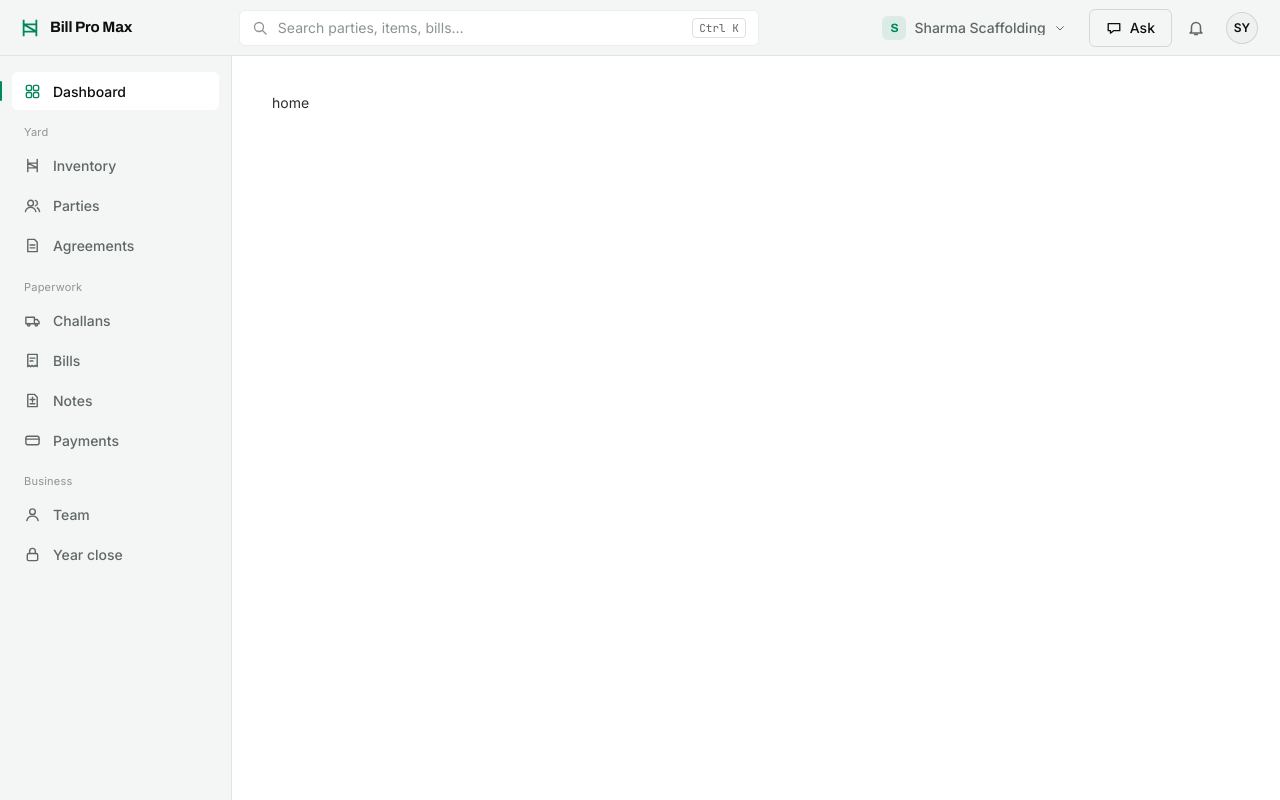
it: Layout › shows only Settings in the business menu with a single business
Click the button "S Sharma Scaffolding" at [974, 28], box x1=866 y1=8 x2=1083 y2=46
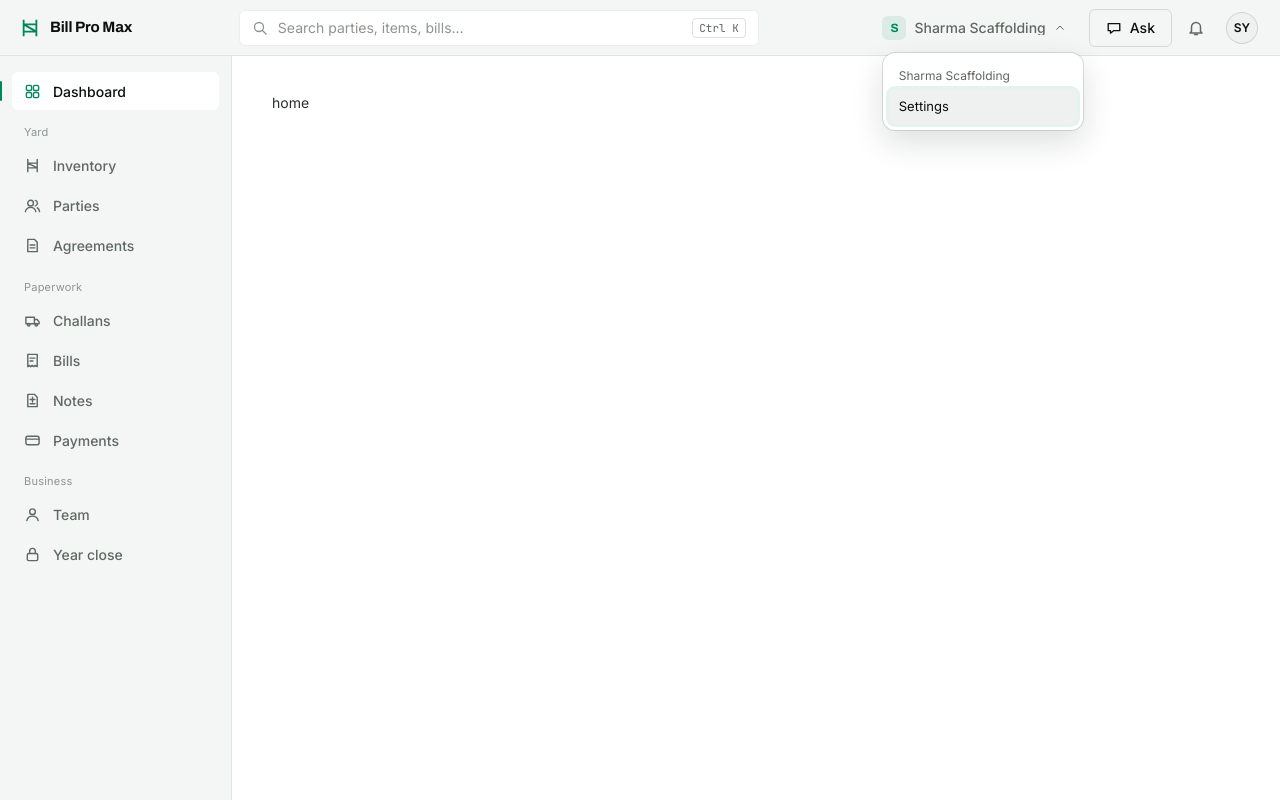
Now the menu items read "Settings", in this order, box x1=889 y1=88 x2=1077 y2=124
